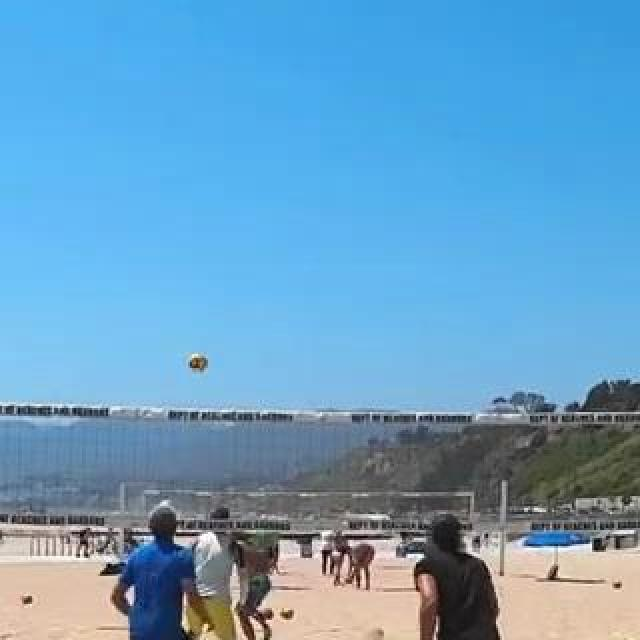volleyball: (188, 354, 206, 372), (279, 607, 295, 621), (262, 608, 274, 620), (23, 595, 33, 605), (612, 580, 622, 590)
